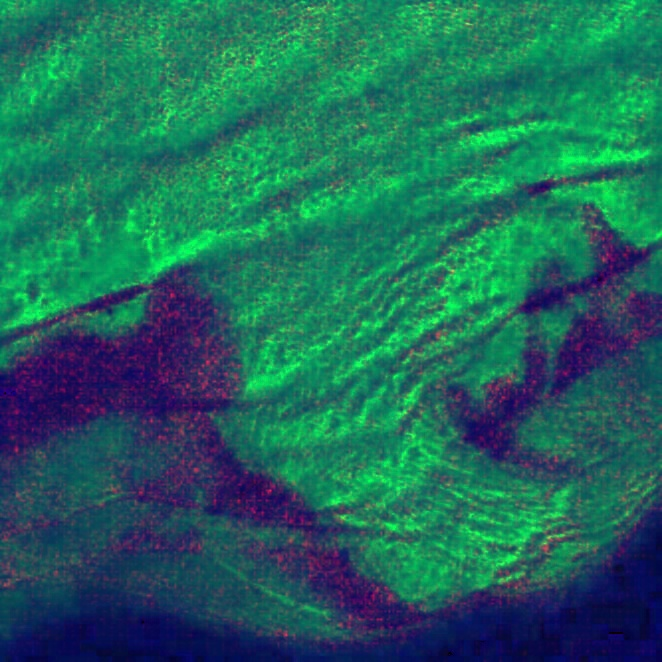rip_current: (180, 188, 564, 604)
